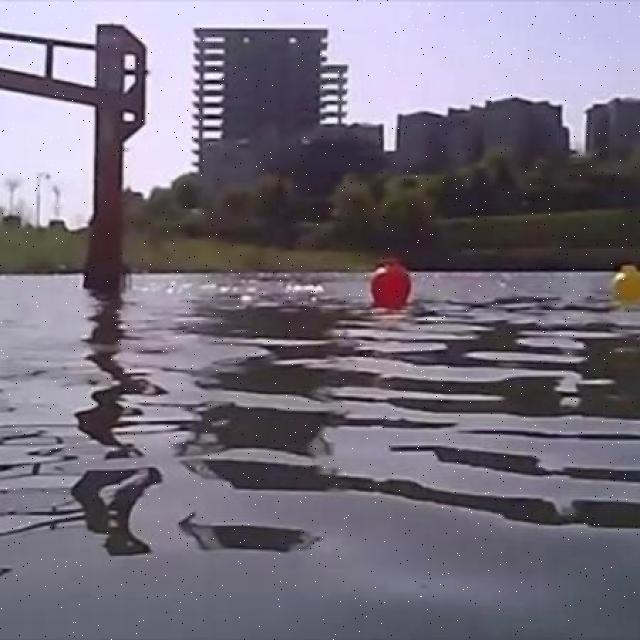buoy: (370, 260, 410, 304), (610, 258, 640, 300)
